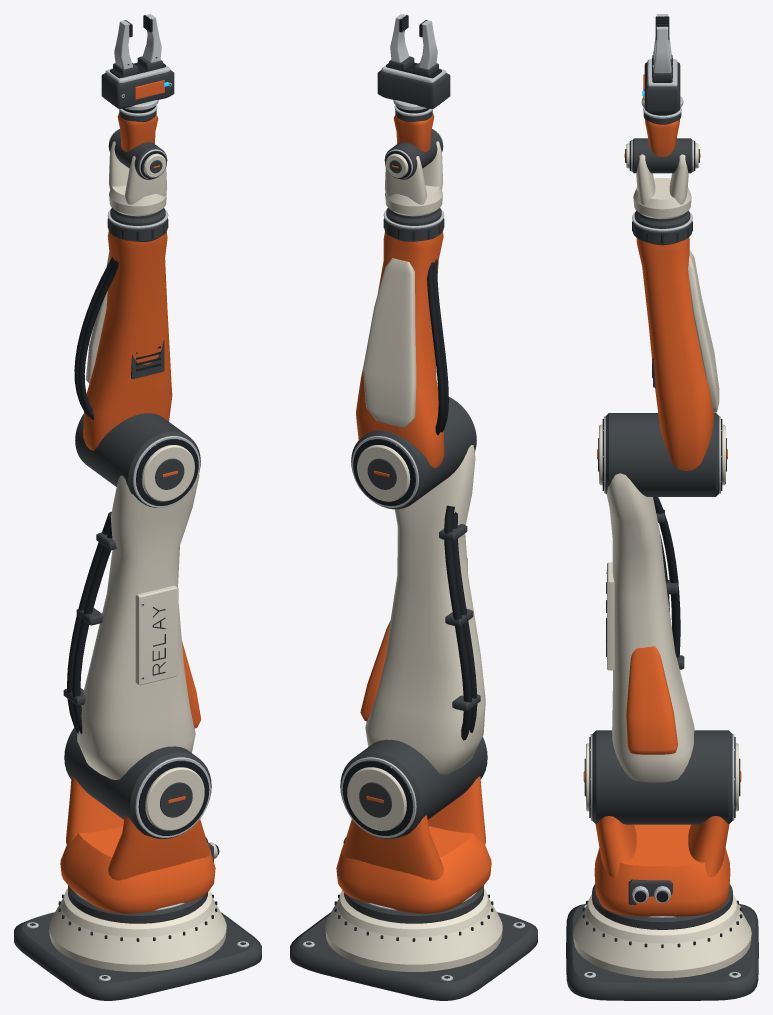
Rendered from robot.glb.
The picture shows the model from 3 angles, left to right: view 1: azimuth 30°, elevation 25°; view 2: azimuth 150°, elevation 25°; view 3: azimuth 270°, elevation 25°; orthographic projection.
Parts seen in each view (by area): view 1: J2, J3, Base, J1, J5, J6, J4, JawL, JawR; view 2: J2, J3, Base, J1, J5, J6, J4, JawL, JawR; view 3: J2, J3, Base, J1, J5, J4, J6, JawL.
Boxes of the visible parts, box(x1,y1,x2,y2) form: J2: box(63, 474, 211, 838); J3: box(74, 208, 200, 507); Base: box(14, 885, 261, 1000); J1: box(60, 776, 219, 913); J5: box(108, 105, 167, 179); J6: box(101, 62, 174, 113); J4: box(108, 141, 166, 216); JawL: box(137, 14, 162, 70); JawR: box(113, 20, 138, 76); J2: box(340, 445, 487, 838); J3: box(351, 208, 476, 509); Base: box(290, 885, 537, 1000); J1: box(336, 776, 491, 913); J5: box(384, 105, 443, 179); J6: box(377, 62, 450, 113); J4: box(385, 141, 443, 216); JawL: box(389, 14, 414, 70); JawR: box(413, 20, 438, 76); J2: box(583, 473, 741, 824); J3: box(597, 210, 727, 496); Base: box(566, 884, 758, 1000); J1: box(594, 816, 730, 916); J5: box(624, 107, 700, 173); J4: box(633, 154, 691, 218); J6: box(641, 59, 683, 115); JawL: box(652, 26, 672, 79).
Size of the model in its own units: 0.324 by 1.6 by 0.298.
